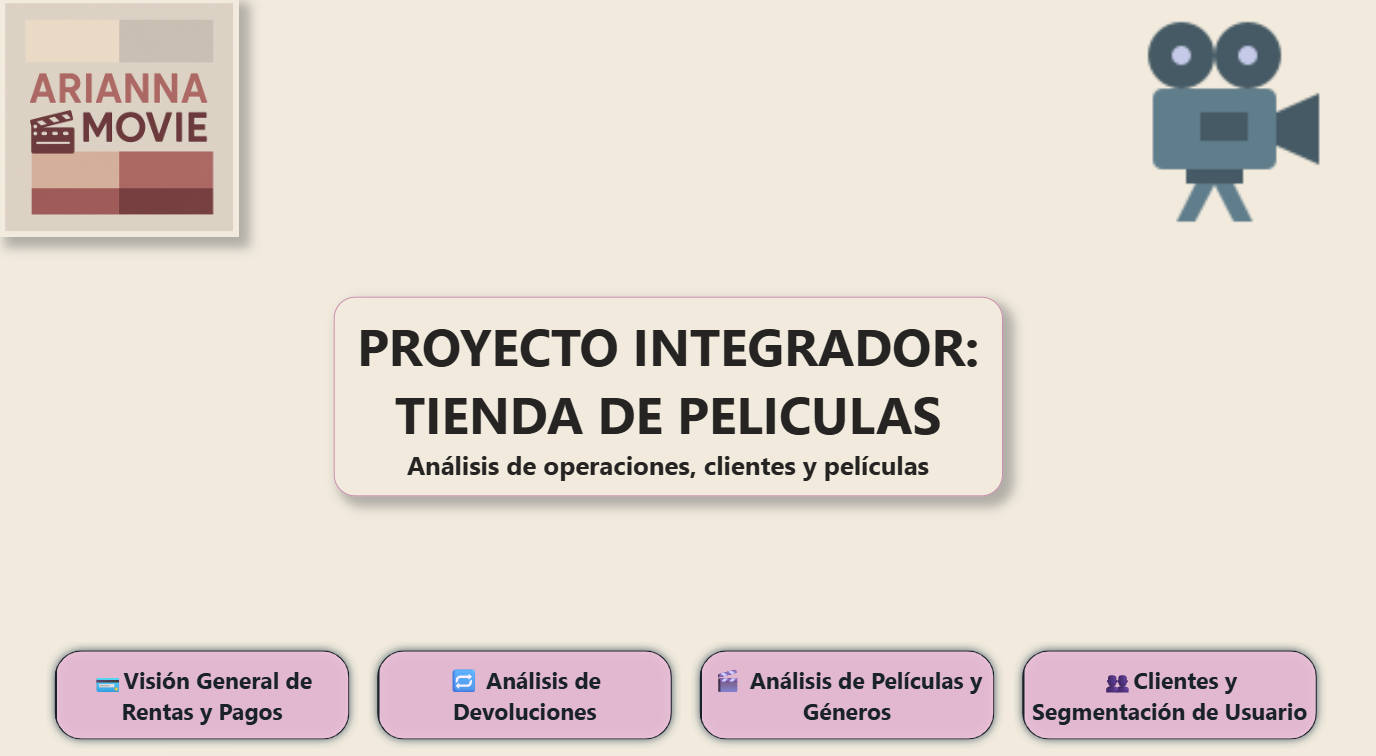

What the dashboard file says about the page in this screenshot:
{"tool":"powerbi","page":{"name":"Portada","canvas":[1280,720],"ordinal":0},"visuals":[{"type":"image","box":[0,0,222.2,222.2],"z":0},{"type":"textbox","box":[311,277.9,622.1,185.8],"z":1000},{"type":"pageNavigator","box":[43.2,599,1190.9,99.4],"z":2000},{"type":"image","box":[1015.2,0,265,221.8],"z":3000}]}

Visuals, with their boxes in screenshot pixels (x1, y1, x2, y2), scaled from the page's 1280x720 canvas onto the 1376x756 screenshot:
image: box(0, 0, 239, 233)
textbox: box(334, 292, 1003, 487)
pageNavigator: box(46, 629, 1327, 733)
image: box(1091, 0, 1375, 233)
